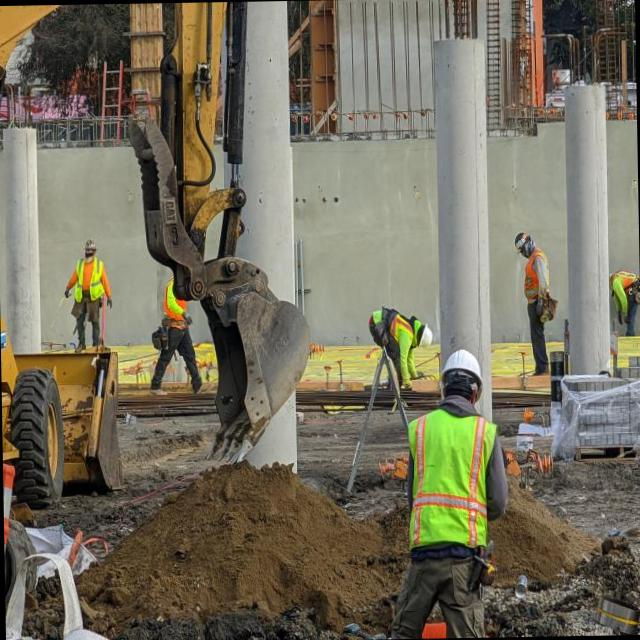Helmet: (444, 345, 488, 397), (514, 222, 533, 250), (422, 322, 436, 348)
Vest: (403, 406, 498, 544), (524, 259, 553, 311), (72, 262, 104, 306), (378, 309, 414, 348)
